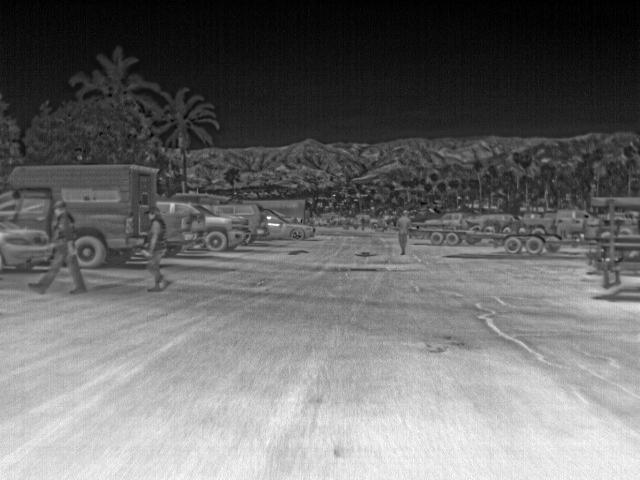car: (160, 200, 254, 250), (3, 216, 52, 274), (206, 203, 264, 238), (556, 207, 604, 239), (268, 213, 318, 239), (423, 209, 475, 227)
person: (27, 198, 88, 292), (144, 204, 171, 289), (396, 209, 413, 255)
